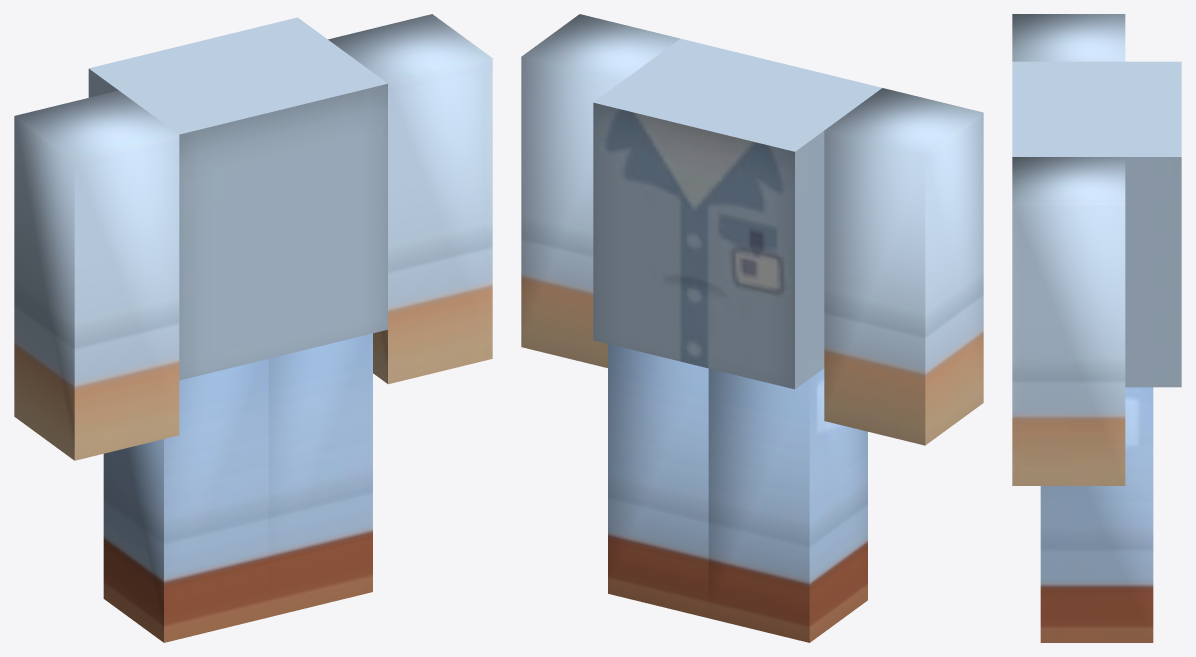
File: blocky-i.glb
The picture shows the model from 3 angles, left to right: view 1: azimuth 30°, elevation 25°; view 2: azimuth 150°, elevation 25°; view 3: azimuth 270°, elevation 25°; orthographic projection. The views are drawn at different scales.
Visible parts, largest first — view 1: torso, arm-left, arm-right, leg-left, leg-right; view 2: torso, arm-left, leg-left, arm-right, leg-right; view 3: arm-right, torso, leg-right, arm-left.
Boxes of the visible parts, x1,y1,x2,y2 form: torso: (88,17,387,380); arm-left: (14,90,179,460); arm-right: (328,14,492,384); leg-left: (103,359,268,642); leg-right: (268,333,372,617); torso: (593,38,881,389); arm-left: (824,88,983,445); leg-left: (708,368,867,642); arm-right: (521,14,679,367); leg-right: (608,344,708,618); arm-right: (1012,157,1125,485); torso: (1012,61,1181,387); leg-right: (1040,387,1153,642); arm-left: (1012,14,1125,61).
Size of the model in its own units: 1.21 by 1.44 by 0.4537.
Materials: 1 (1 with a texture image).
